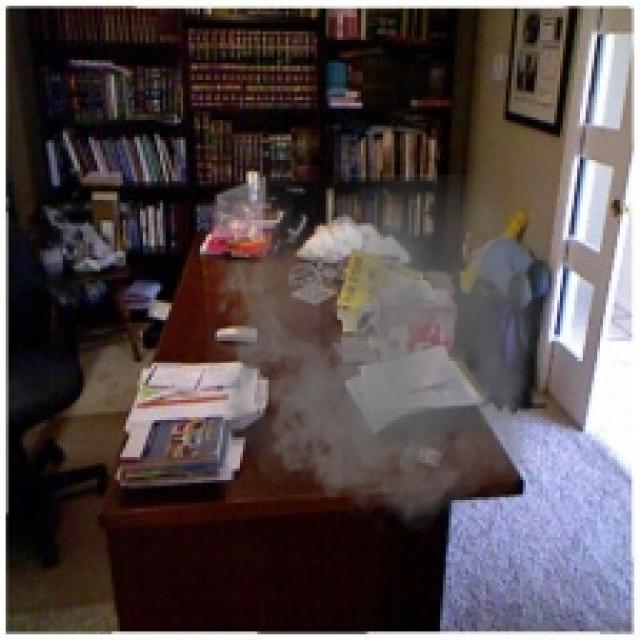smoke: (206, 174, 548, 543)
